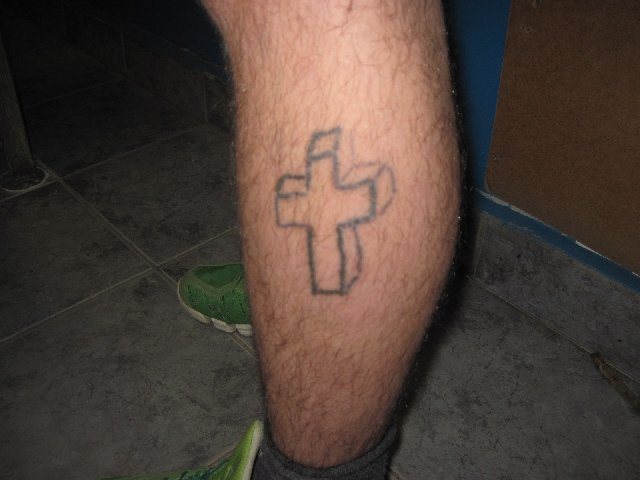tatu9_krest: (261, 118, 403, 303)
